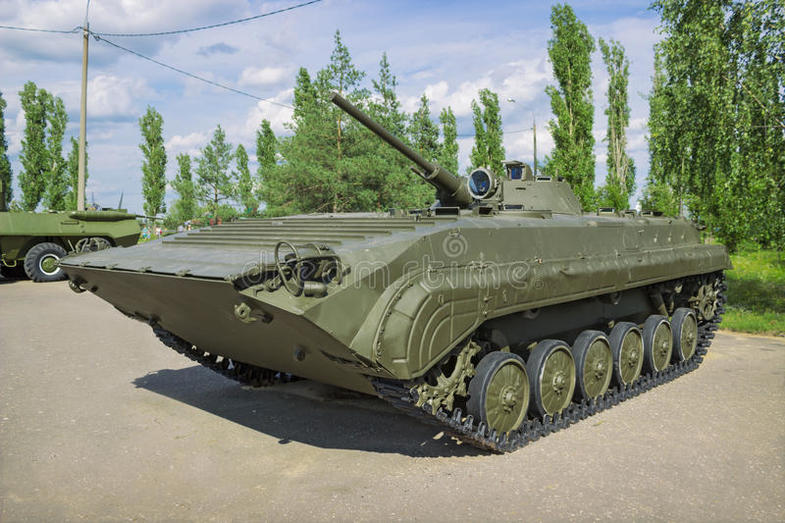bmp: (62, 121, 724, 444)
